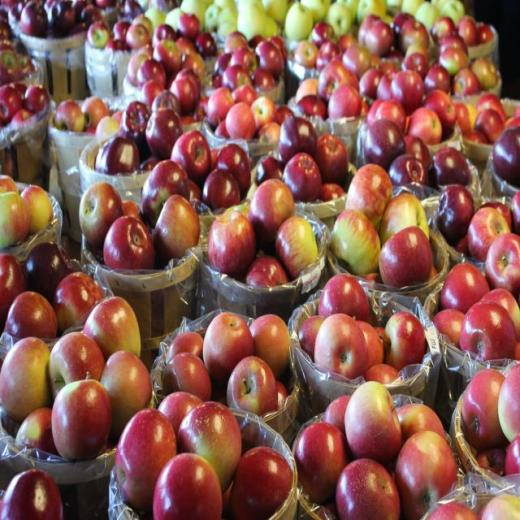Apple: (270, 0, 492, 159), (0, 239, 150, 457), (392, 88, 520, 287), (208, 114, 348, 286), (295, 381, 454, 520), (117, 397, 288, 519), (159, 315, 287, 418), (82, 154, 196, 269), (300, 277, 426, 379), (332, 162, 431, 288), (206, 33, 295, 136), (433, 262, 520, 360), (460, 365, 520, 477), (130, 27, 202, 113), (98, 100, 182, 171), (150, 0, 274, 37), (0, 42, 50, 133), (0, 0, 101, 41), (0, 176, 53, 244), (2, 471, 62, 520), (54, 98, 122, 140), (86, 15, 150, 48), (477, 497, 520, 520), (425, 502, 479, 520)
